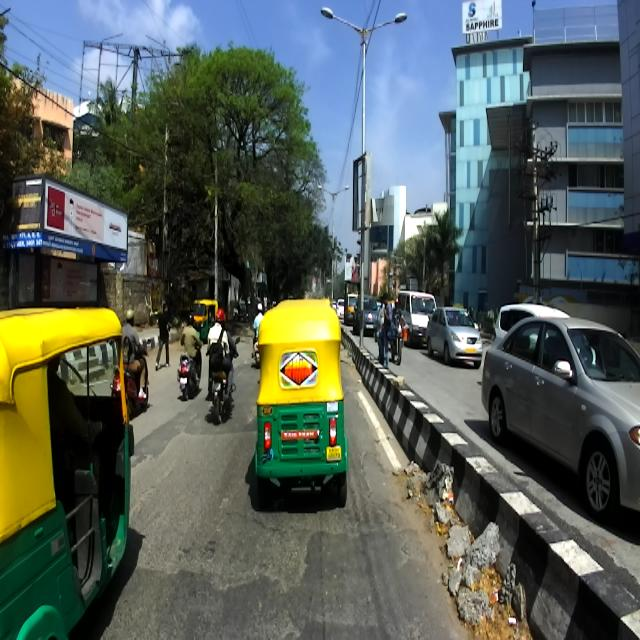auto ahead at: (0, 299, 141, 640), (250, 292, 355, 510)
motorcycle ahead at: (200, 356, 239, 421)
stones ahead at: (428, 484, 508, 631)
